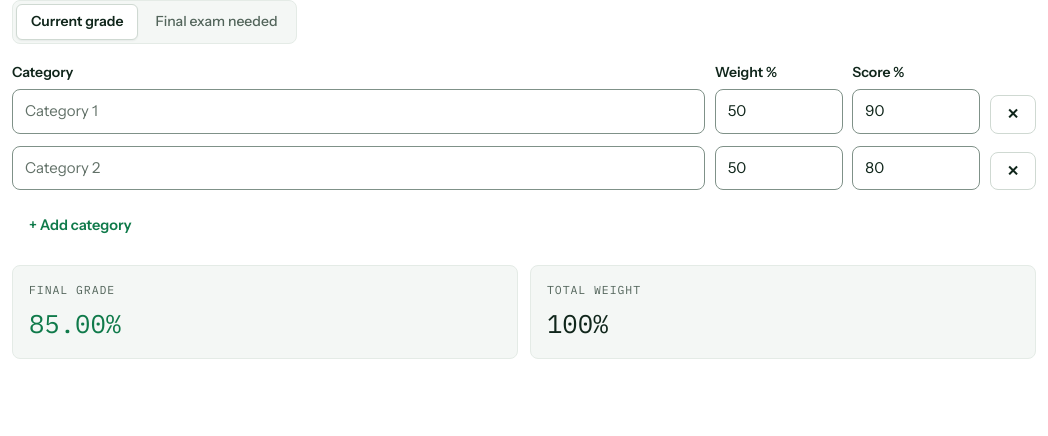
Scenario: GradeCalculator › errors on an invalid weight/score
The image size is (1048, 436).
Replace the text in the number field with placeholder "0" with "-5" at (779, 112), box [715, 89, 843, 134]
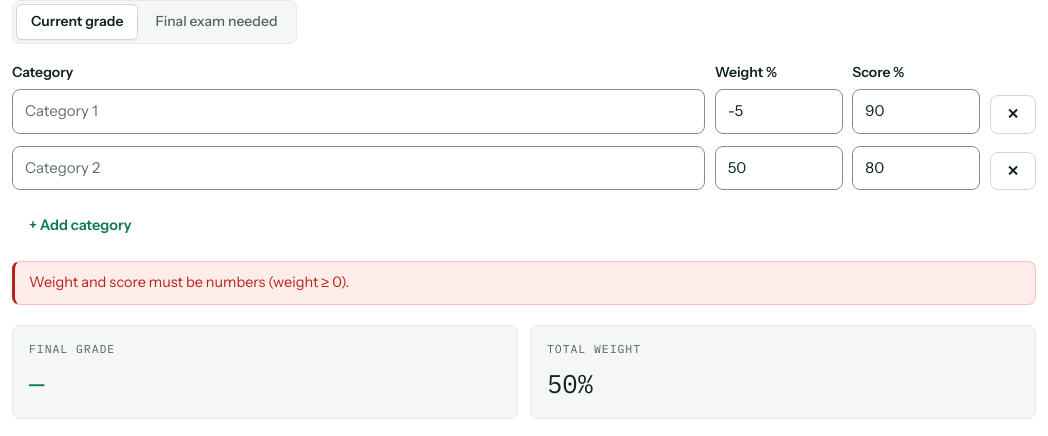
Expected: the text "Weight and score must be numbers (weight ≥ 0)." is shown, [12, 261, 1036, 305]
